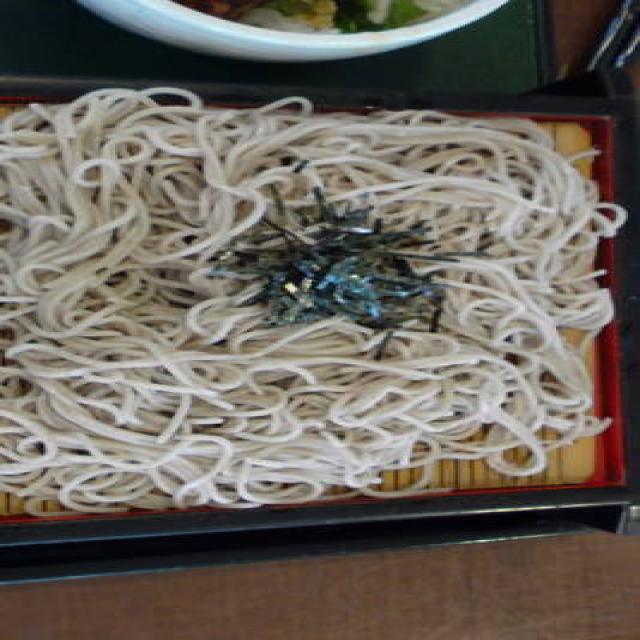面条主食: (0, 65, 630, 546)
